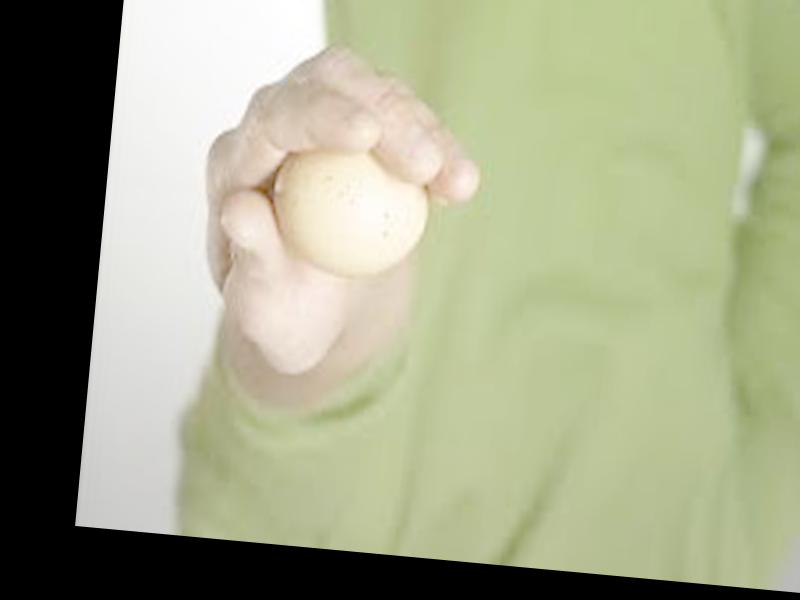Eggs: (268, 142, 433, 281)
